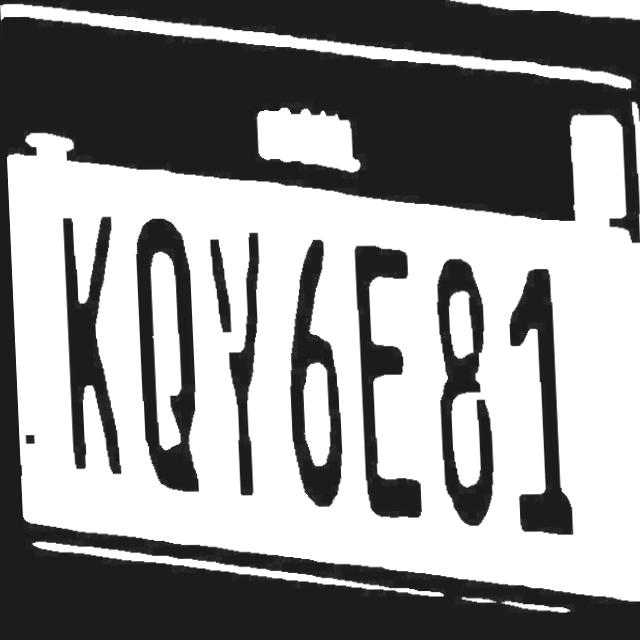1: (500, 265, 579, 545)
6: (277, 233, 358, 537)
8: (423, 245, 504, 544)
e: (341, 241, 437, 546)
k: (36, 187, 127, 496)
q: (122, 211, 202, 497)
y: (201, 209, 277, 518)
